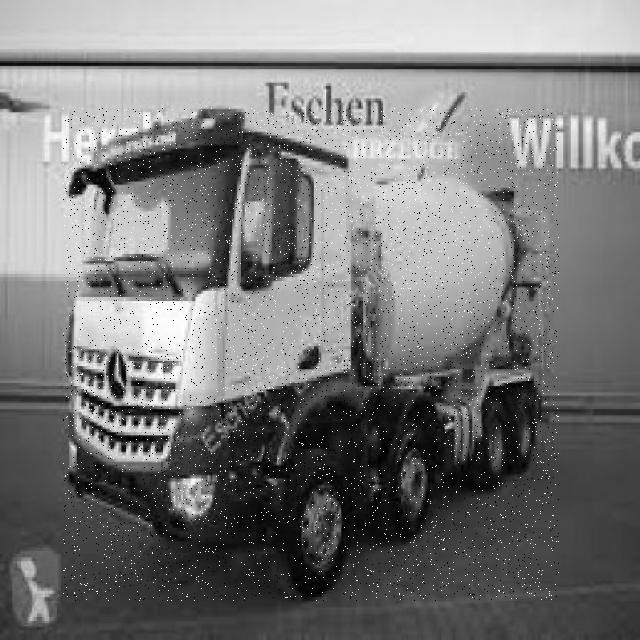Concrete Mixer: (63, 108, 559, 601)
